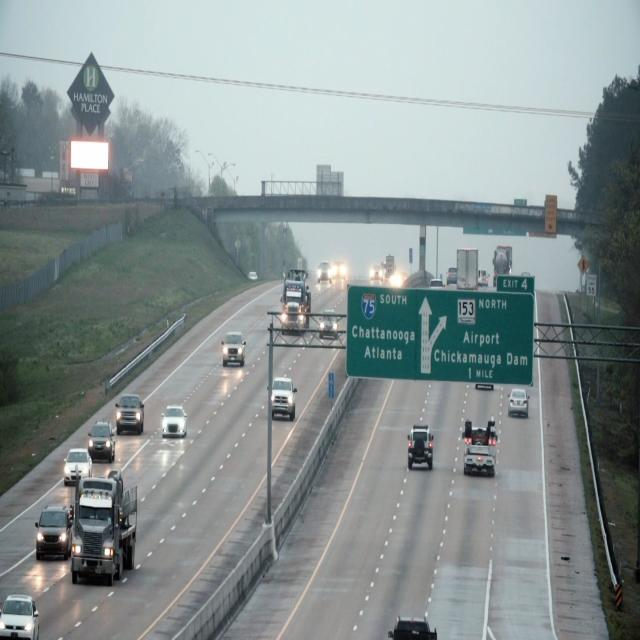Car: (70, 472, 140, 585), (462, 416, 498, 484), (36, 500, 70, 566), (280, 264, 311, 336), (1, 593, 41, 640), (409, 423, 436, 472), (116, 392, 146, 435), (87, 416, 115, 459), (270, 377, 296, 420), (65, 449, 92, 485), (222, 333, 245, 370), (507, 385, 531, 420), (164, 404, 187, 439), (318, 307, 339, 341)
